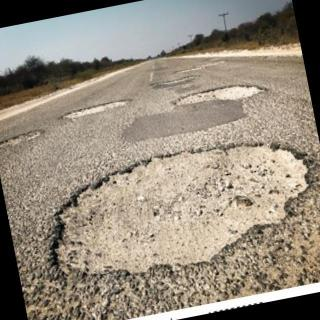pothole: (50, 147, 308, 275), (172, 86, 266, 105), (62, 100, 130, 117), (0, 131, 40, 147)
